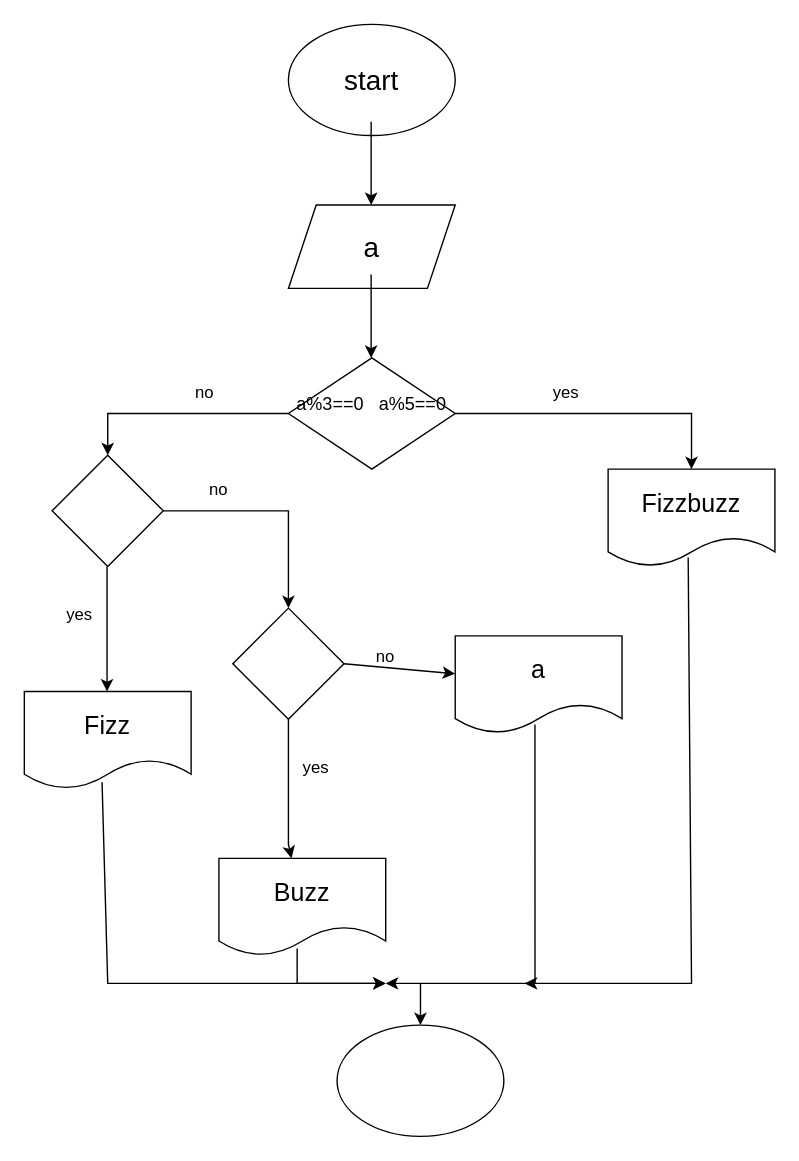
The diagram is 799 pixels wide and 1161 high, and some of its shapes have lost their labels. The shapes that lost their labels are listed below. From the top down, each one's box as (x1, y1, x2, y2) in pixels, then its label:
(51, 454, 163, 566): a%3==0
(231, 607, 344, 719): a%5==0
(336, 1024, 504, 1136): finish
